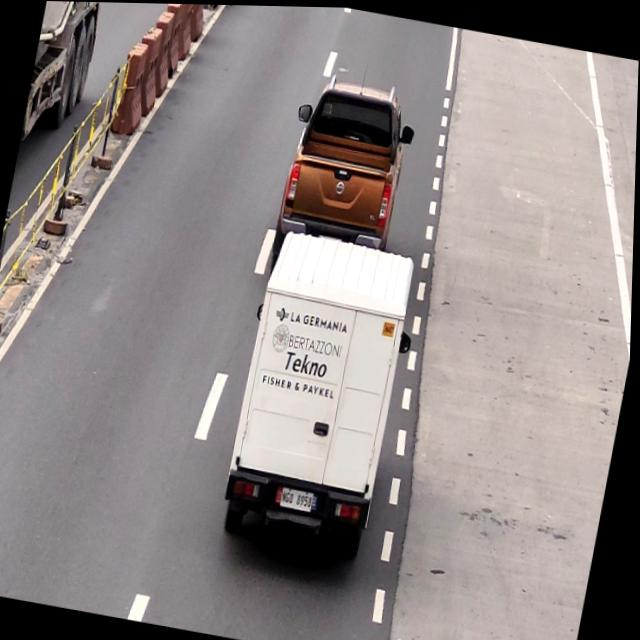Car: (222, 227, 420, 558), (274, 65, 418, 247)
License-Plate: (282, 486, 318, 514)
